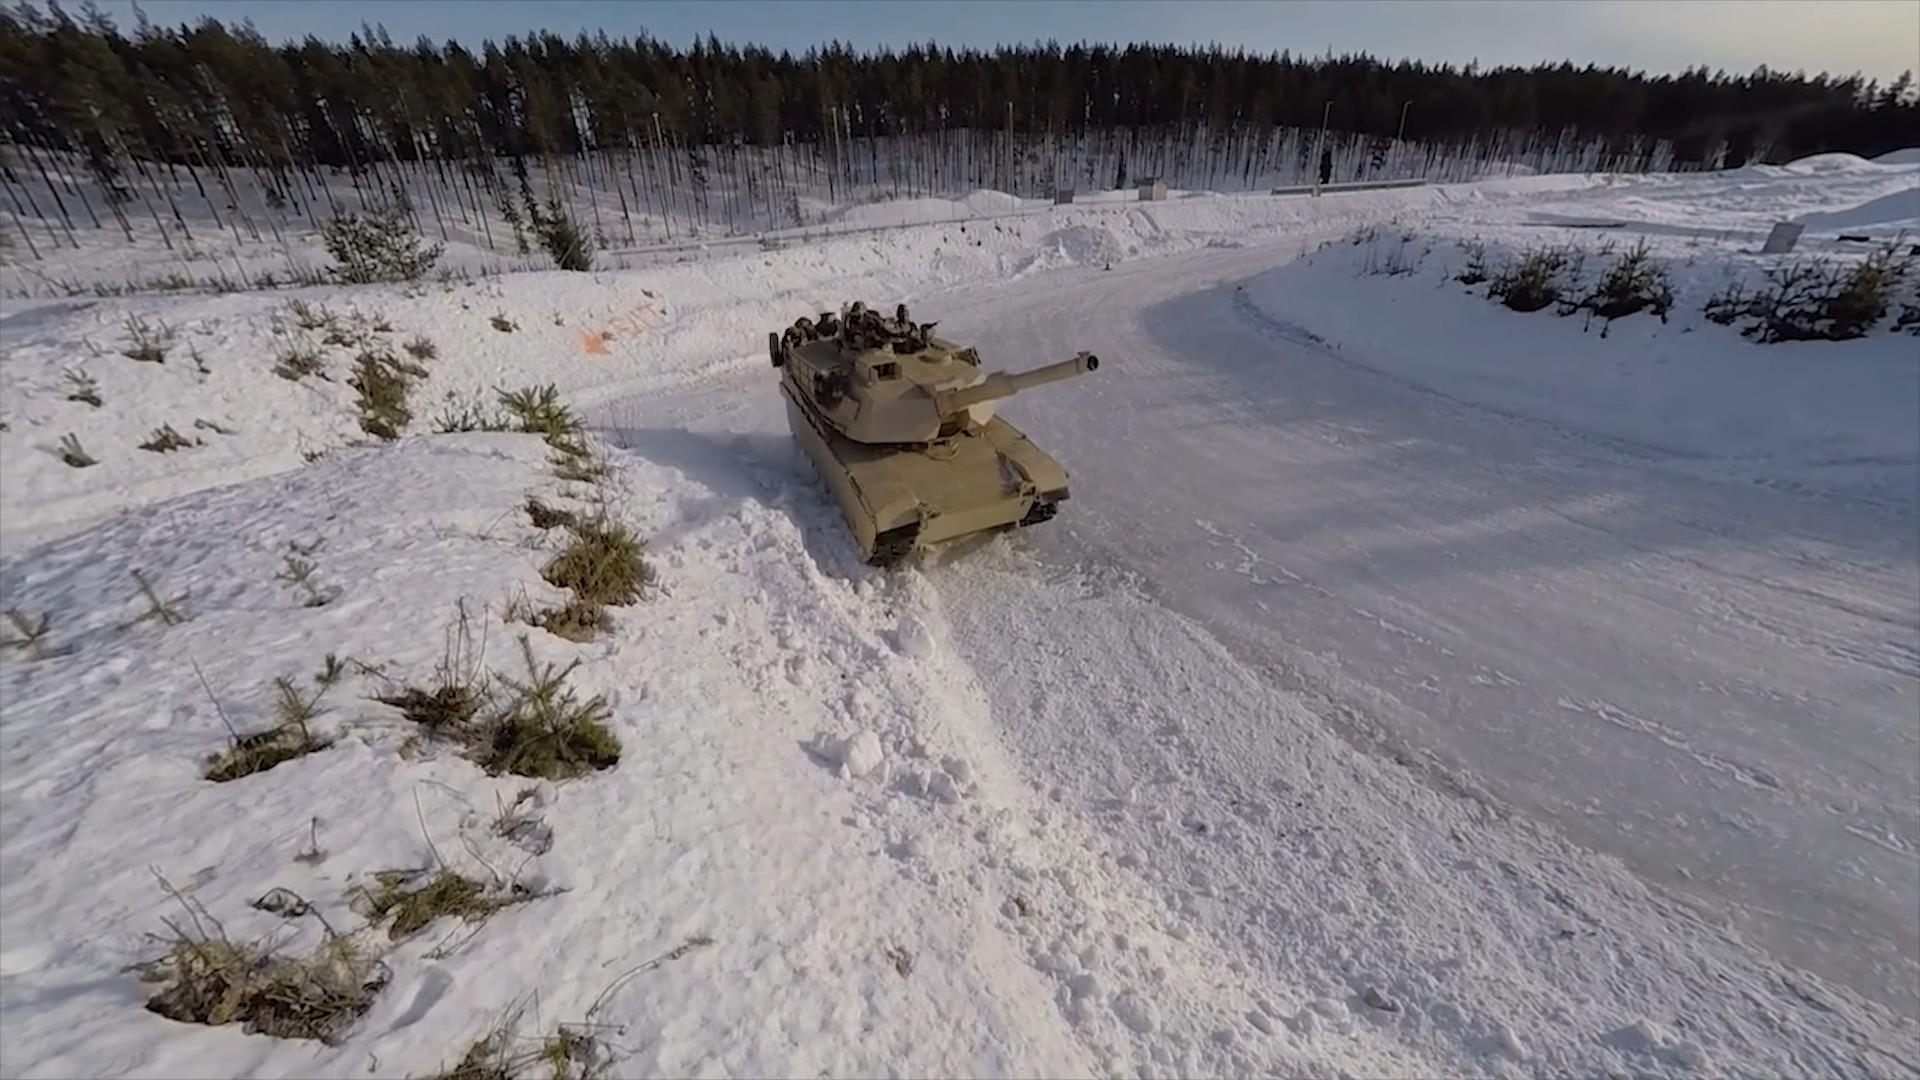tank: (767, 299, 1101, 564)
